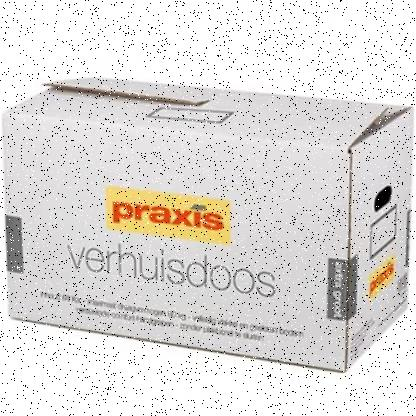box: (1, 76, 416, 373)
normal_hole: (373, 185, 393, 212)
